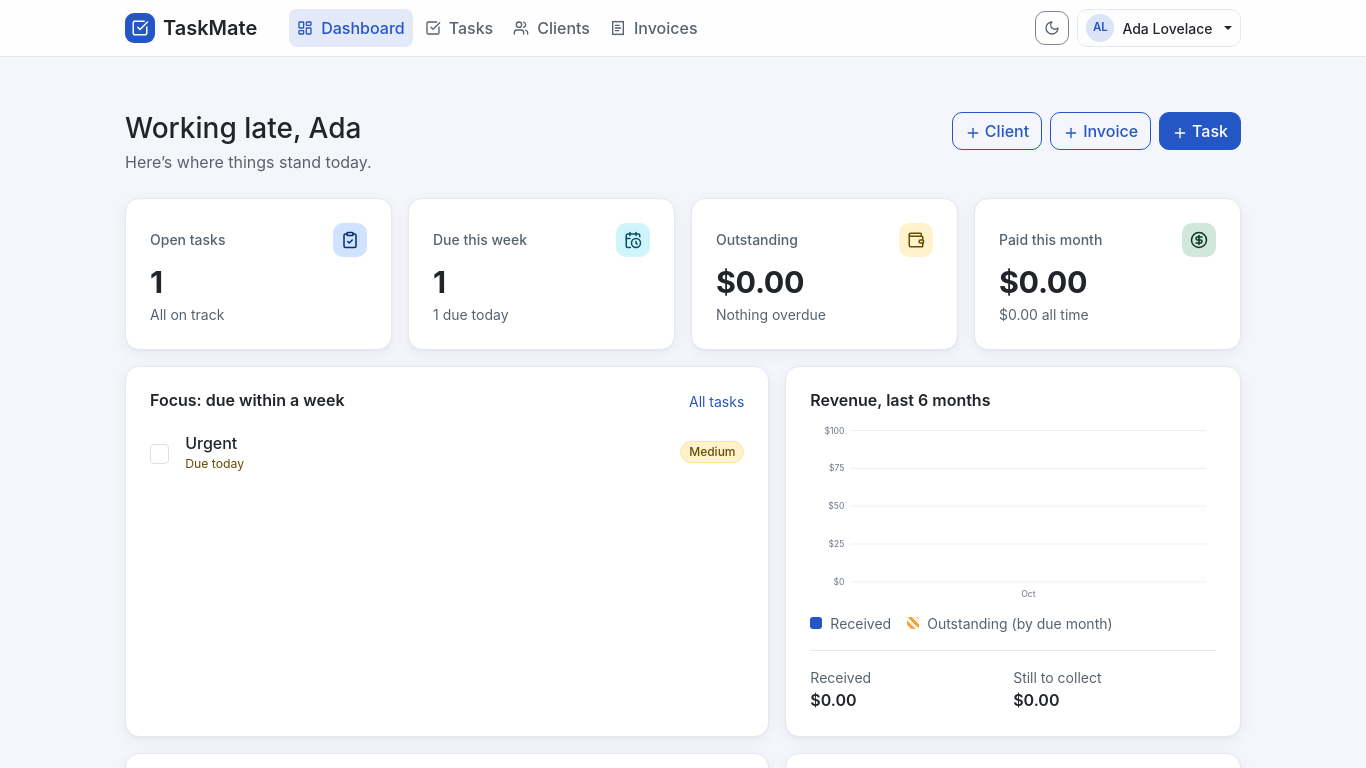
it: failed writes › dashboard: completing a task
This screenshot has width=1366, height=768.
Click the checkbox named "Mark “Urgent” as complete" at coordinates (160, 454), box x1=150 y1=444 x2=169 y2=464
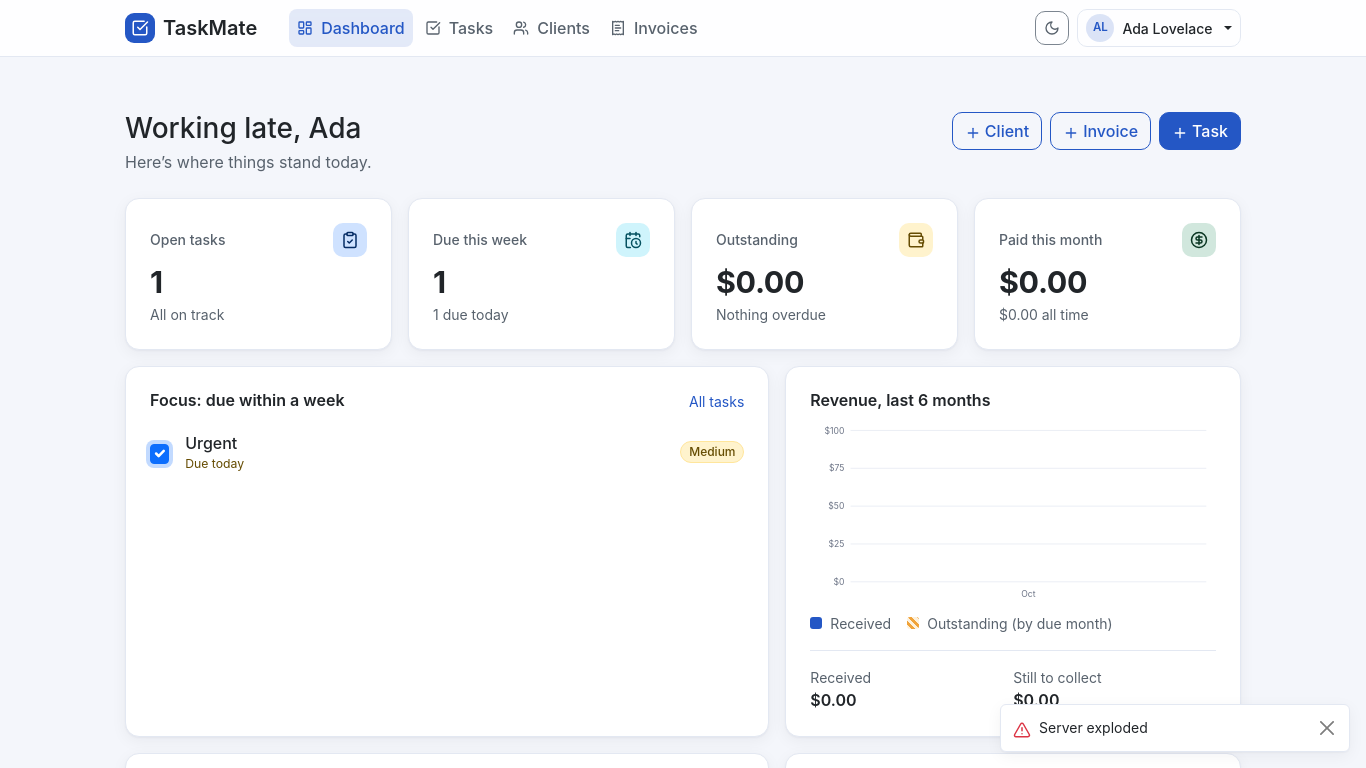
Check: the list with test id "focus-list" shows "Urgent", box x1=185 y1=433 x2=237 y2=453
Check: the message reads "Server exploded", box x1=1039 y1=719 x2=1148 y2=736
